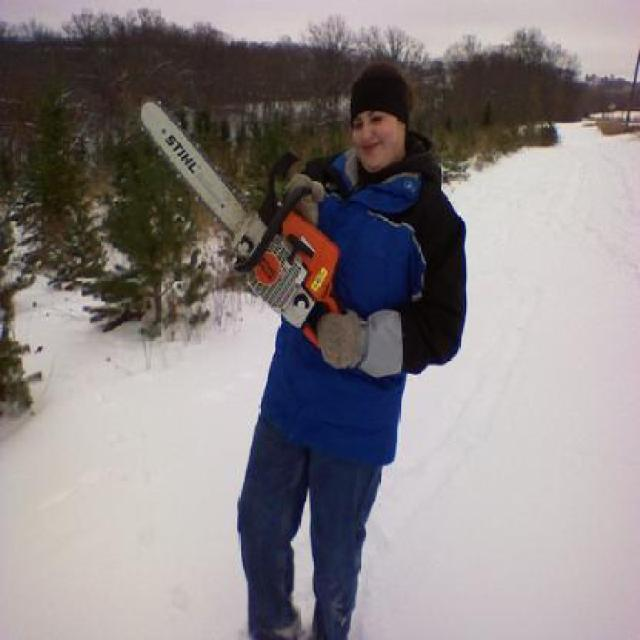Chainsaw: (134, 97, 352, 371)
